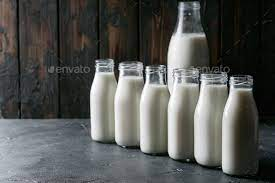milk: (224, 66, 263, 178), (195, 69, 229, 168), (167, 64, 198, 164), (85, 57, 115, 140), (144, 59, 169, 158), (117, 54, 141, 152)
